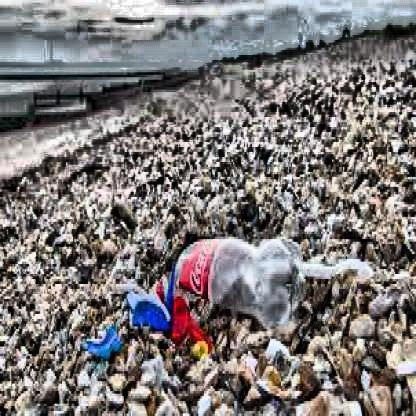Plastic wastes: (166, 230, 304, 337)
